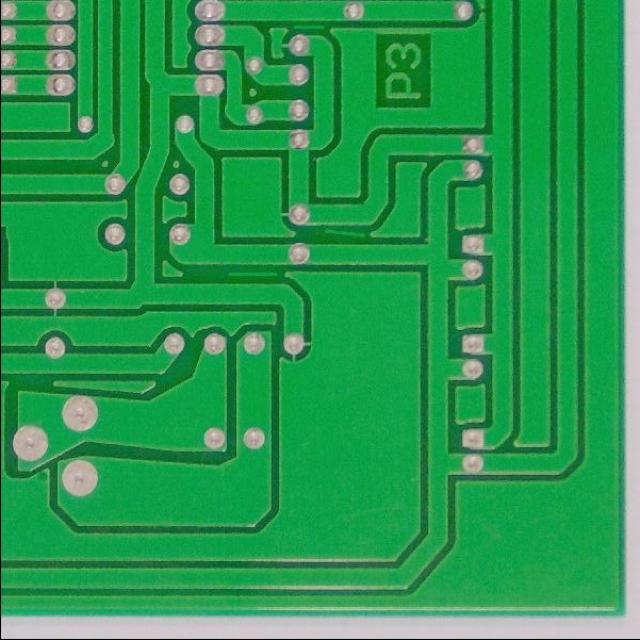Spurious_Cooper: (320, 223, 368, 240), (224, 266, 280, 280), (291, 21, 326, 32)
